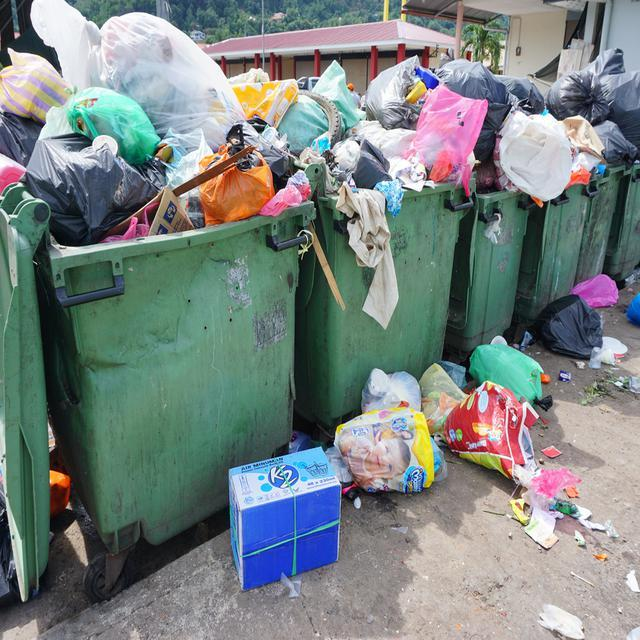garbage: (233, 46, 639, 217), (329, 336, 617, 562), (0, 0, 261, 249), (216, 444, 351, 596), (527, 273, 640, 369), (531, 588, 591, 640)
